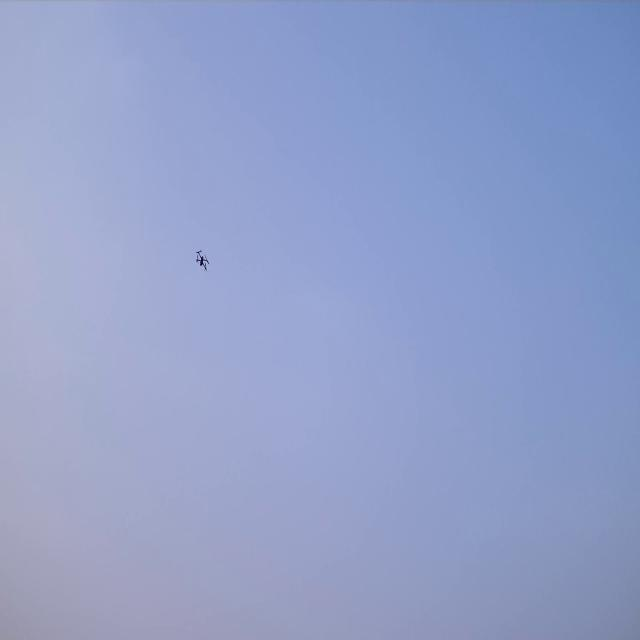UAV: (195, 246, 211, 274)
